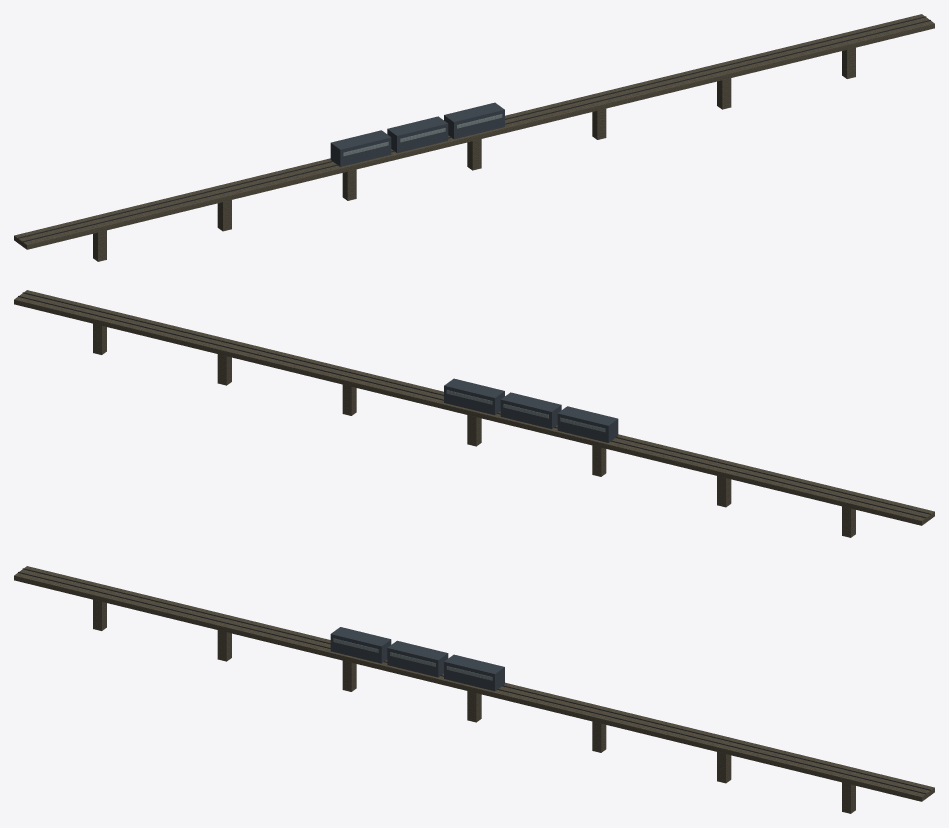
The model's file is amber_elevated_rail_01.glb.
3 renders of one model, top to bottom at view 1: azimuth 30°, elevation 25°; view 2: azimuth 150°, elevation 25°; view 3: azimuth 330°, elevation 25°, orthographic.
Parts seen in each view (by area): view 1: amber_elevated_rail_01; view 2: amber_elevated_rail_01; view 3: amber_elevated_rail_01.
Boxes of the visible parts, left/top/right/bottom form: amber_elevated_rail_01: left=14, top=14, right=934, bottom=261; amber_elevated_rail_01: left=14, top=290, right=934, bottom=537; amber_elevated_rail_01: left=14, top=566, right=934, bottom=813.
Bounding box in the file's own units: 160 × 9.3 × 4.
4 materials, 4 textured.
